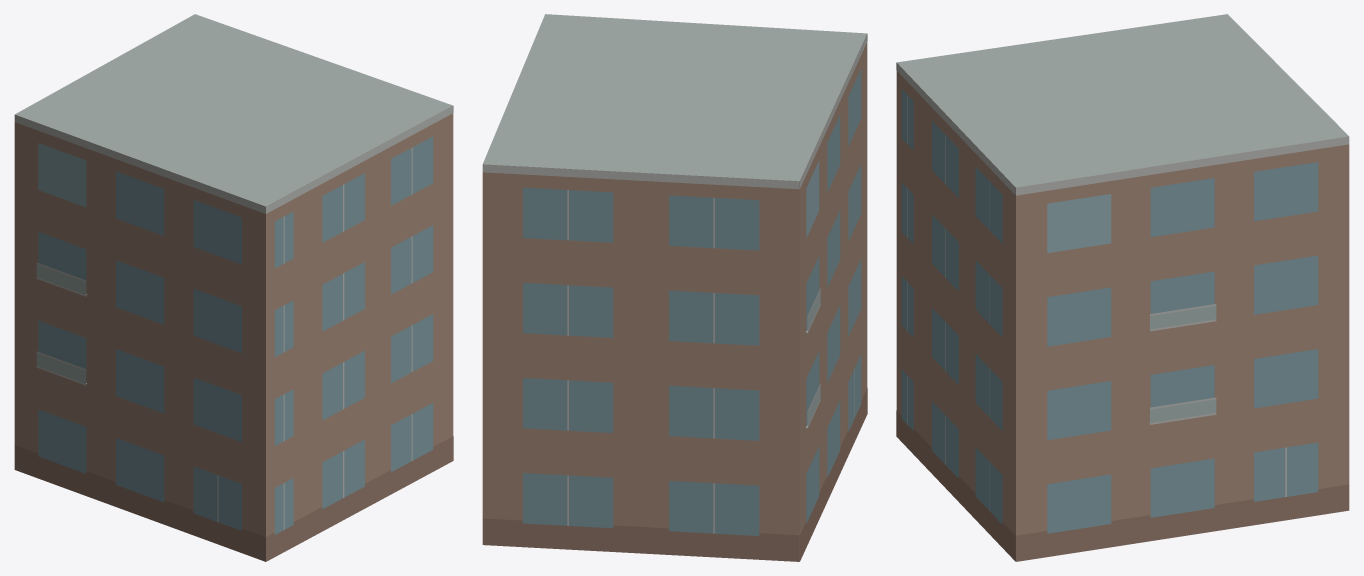
File: survey-upis-32616967.glb
3 views of the same model, side by side, from view 1: azimuth 30°, elevation 25°; view 2: azimuth 150°, elevation 25°; view 3: azimuth 270°, elevation 25° (orthographic). The views are drawn at different scales.
Parts seen in each view (by area): view 1: survey-upis-32616967.tmp; view 2: survey-upis-32616967.tmp; view 3: survey-upis-32616967.tmp.
Part boxes in pixels (bbox=[...]): survey-upis-32616967.tmp: bbox=[14, 14, 453, 561]; survey-upis-32616967.tmp: bbox=[482, 14, 867, 561]; survey-upis-32616967.tmp: bbox=[896, 14, 1349, 561].
Size of the model in its own units: 11.57 by 11.6 by 12.74.
